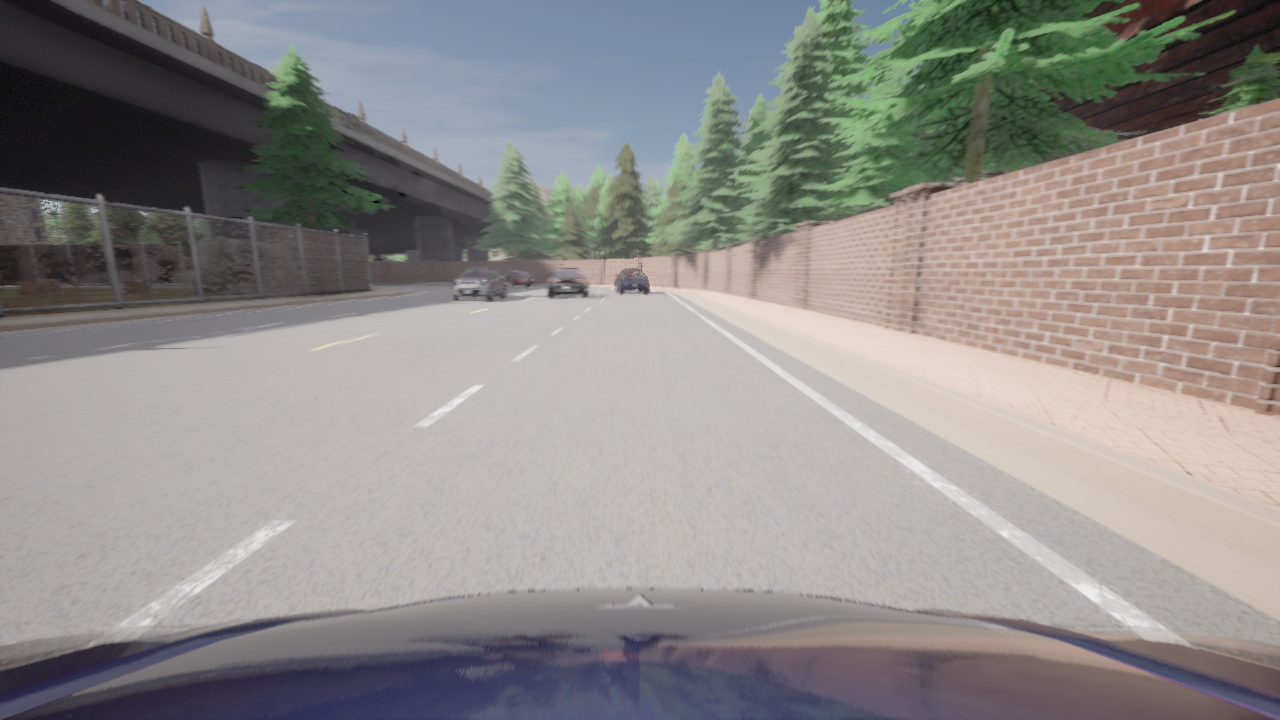cyclist: (0, 588, 1279, 719), (452, 267, 506, 300), (547, 267, 589, 297), (615, 269, 648, 293), (500, 270, 532, 287), (370, 275, 374, 281)
